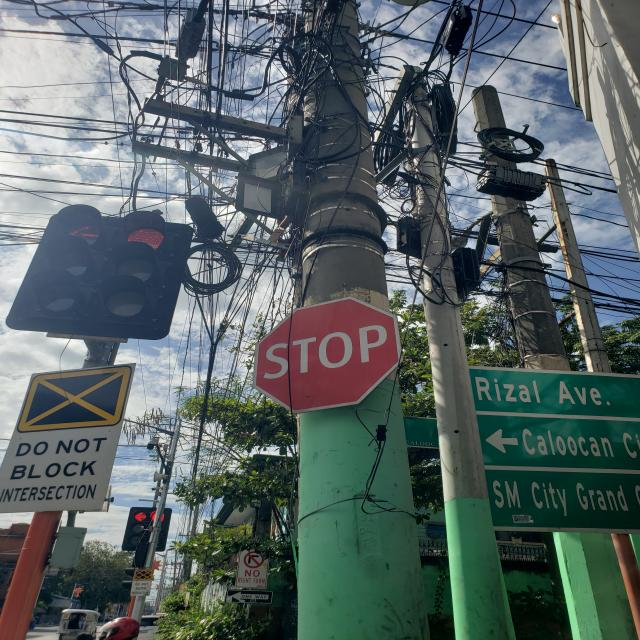stop-sign: (252, 296, 403, 414)
